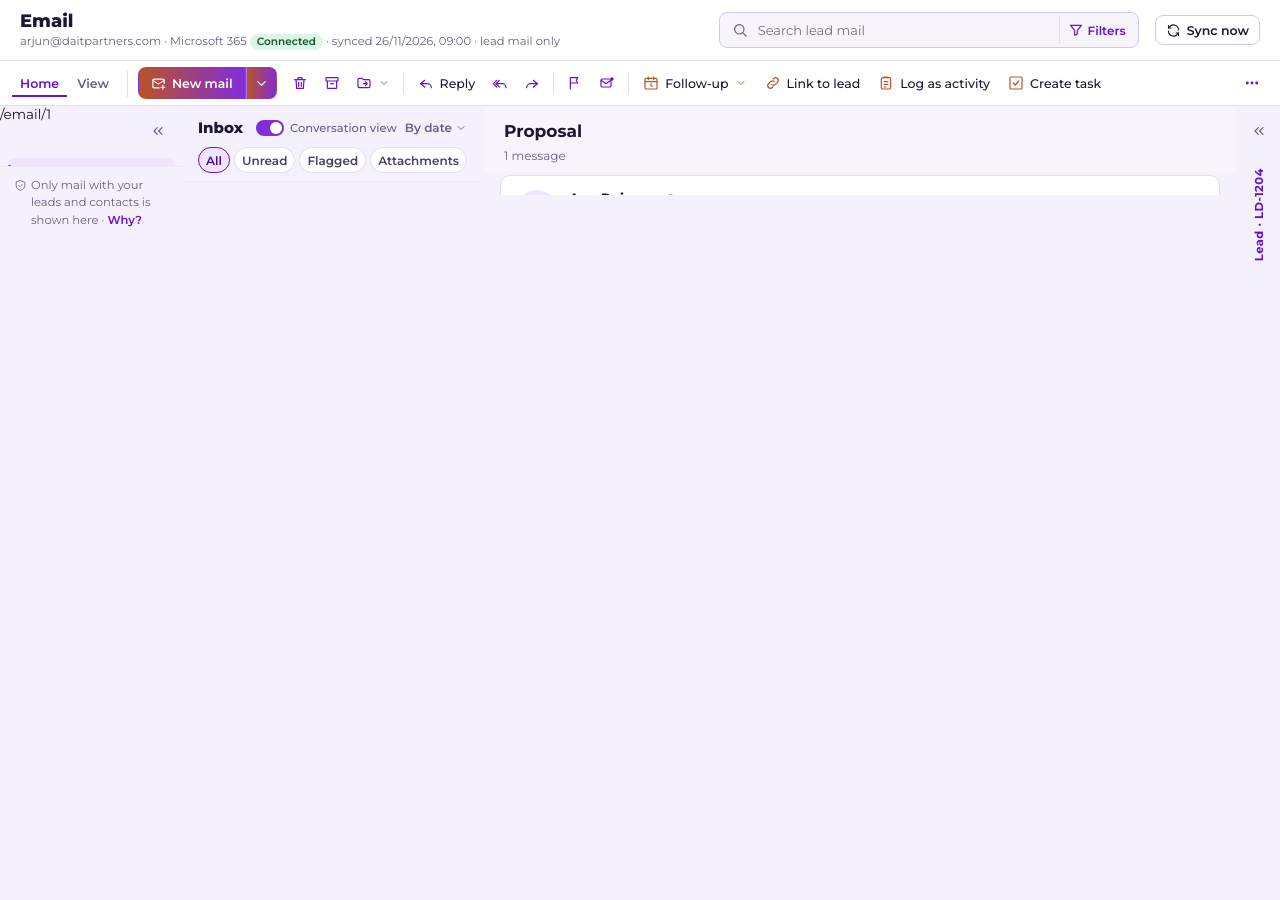
Test: Email command bar, menus and shortcuts (web-mail release 2, Task 14) › Unlink (a linked message) posts unlink
The image size is (1280, 900).
Expected: the button "Reply" is enabled, [410,67,483,99]
Click the button "Link to lead" at (812, 83), box [757,67,868,99]
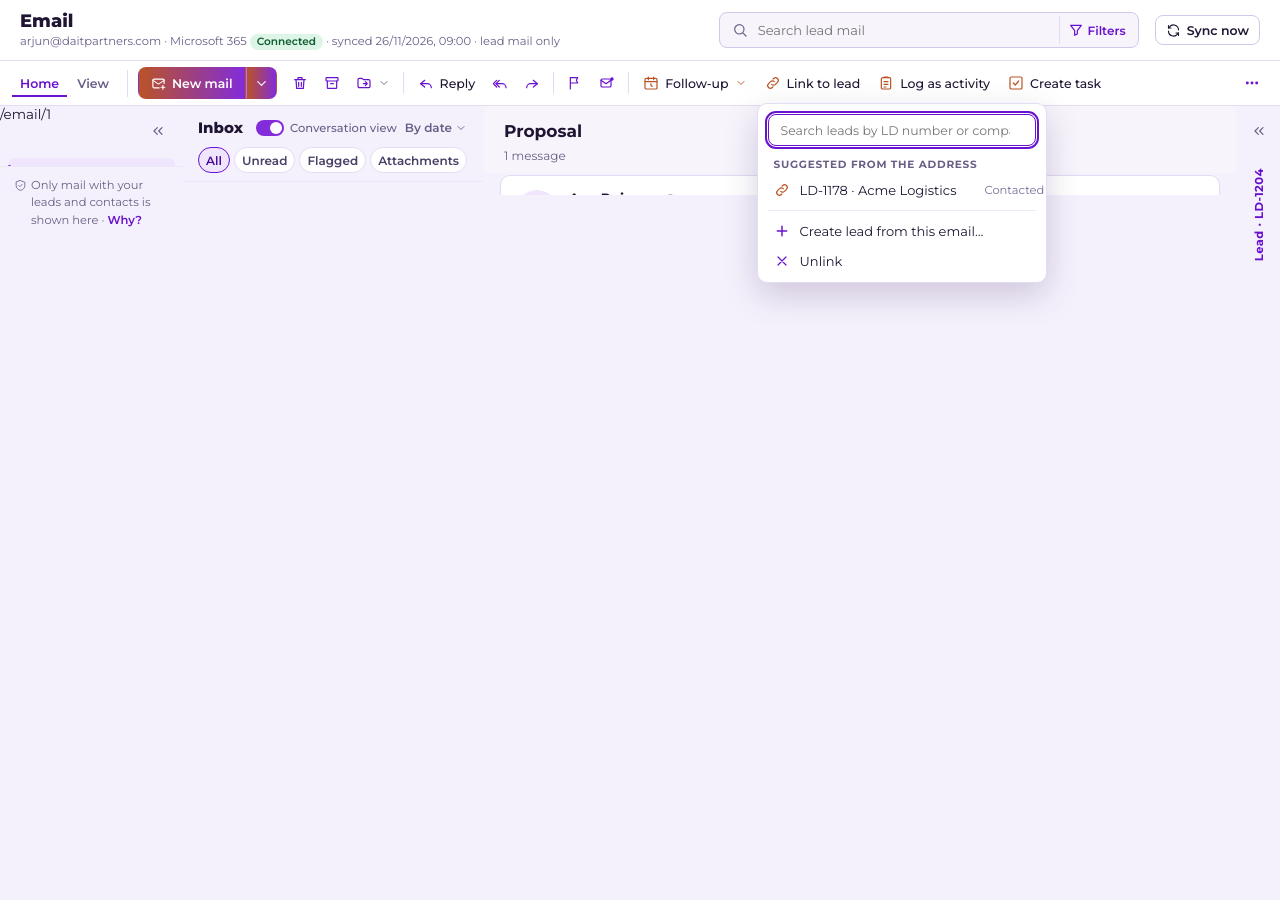
Click the menu item "Unlink" at (821, 261), box [764,246,1040,276]
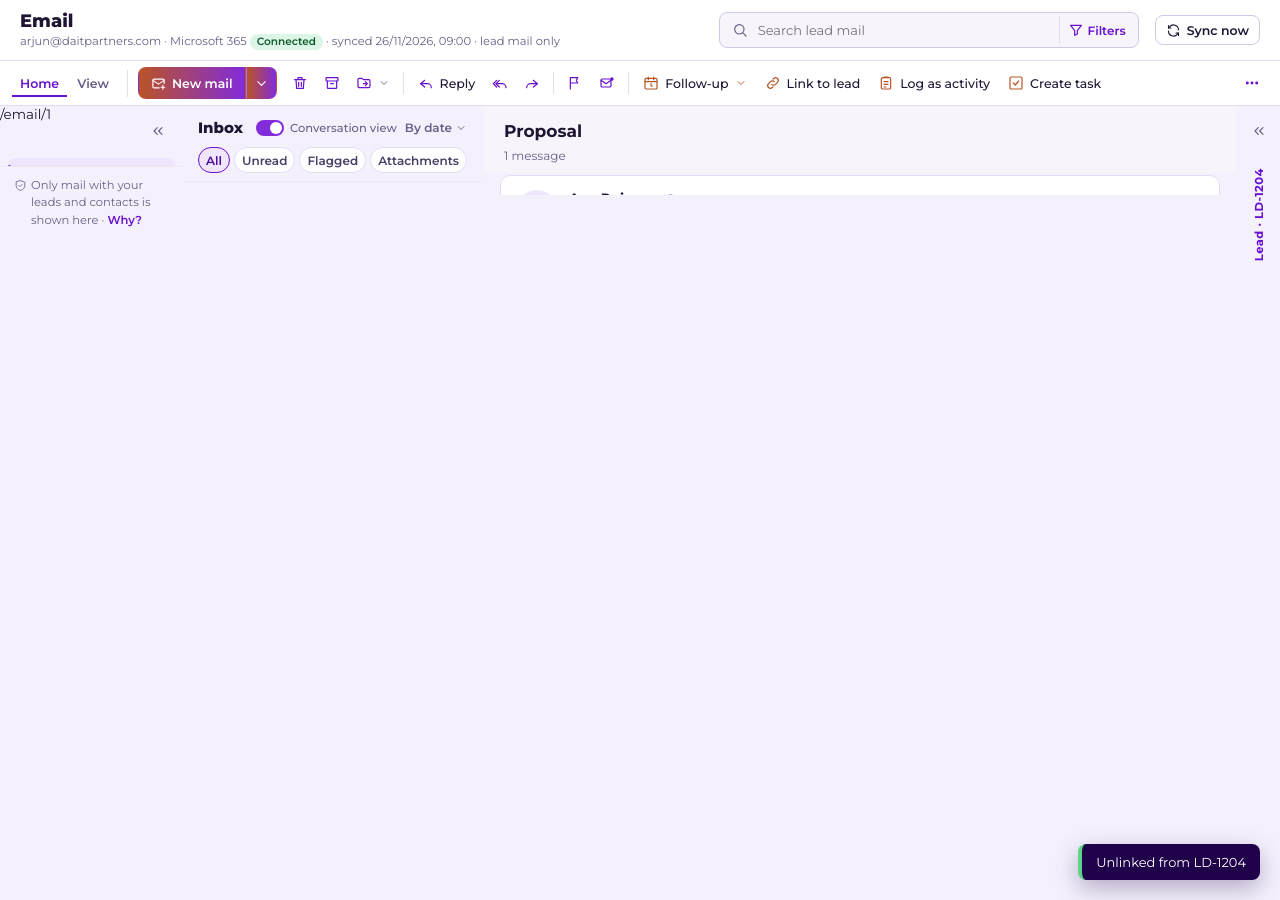
Expected: the text "Unlinked from LD-1204" is shown, [1078,844,1260,880]
